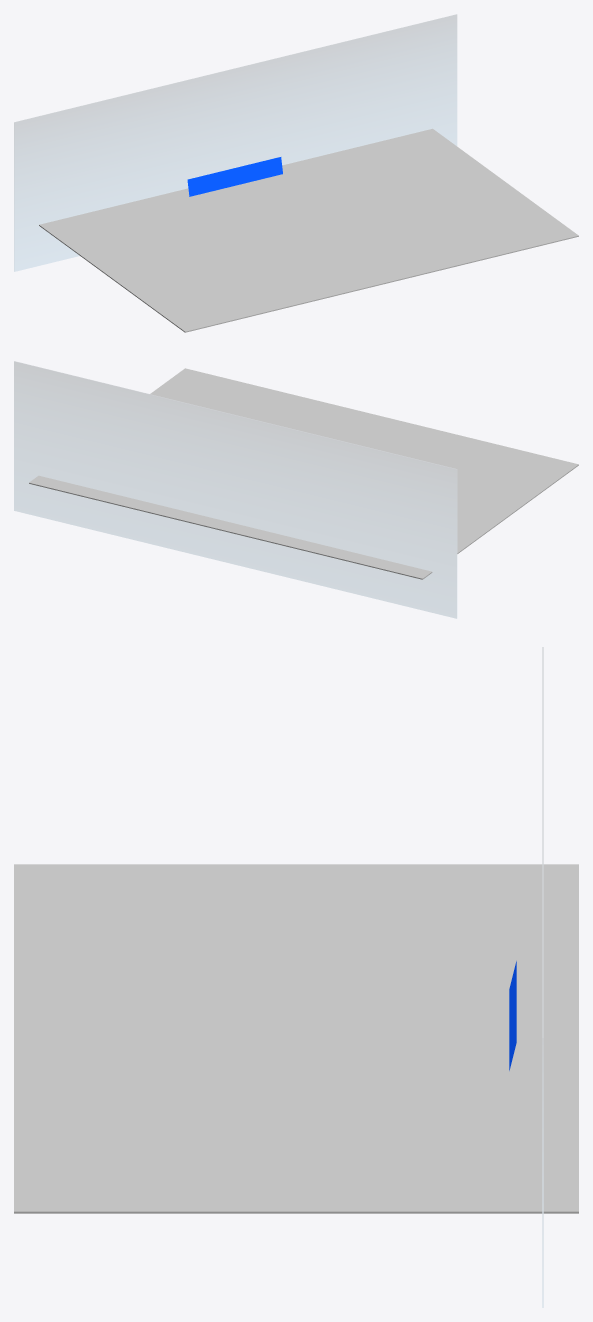
The model's file is f_philippines.glb.
3 renders of one model, top to bottom at view 1: azimuth 30°, elevation 25°; view 2: azimuth 150°, elevation 25°; view 3: azimuth 270°, elevation 25°, orthographic. The views are drawn at different scales.
Parts seen in each view (by area): view 1: Ground contact / transparent shadow receiver.055, Sky gradient / editable material.055, Flag cloth / full-bleed source fields.027; view 2: Sky gradient / editable material.055, Ground contact / transparent shadow receiver.055; view 3: Ground contact / transparent shadow receiver.055, Sky gradient / editable material.055.
Boxes of the visible parts, x1,y1,x2,y2 form: Ground contact / transparent shadow receiver.055: (39,128,578,332); Sky gradient / editable material.055: (14,14,457,271); Flag cloth / full-bleed source fields.027: (187,157,282,196); Sky gradient / editable material.055: (14,361,457,618); Ground contact / transparent shadow receiver.055: (29,368,578,579); Ground contact / transparent shadow receiver.055: (14,864,578,1213); Sky gradient / editable material.055: (542,647,543,1307).
Size of the model in its own units: 180 by 58 by 110.
